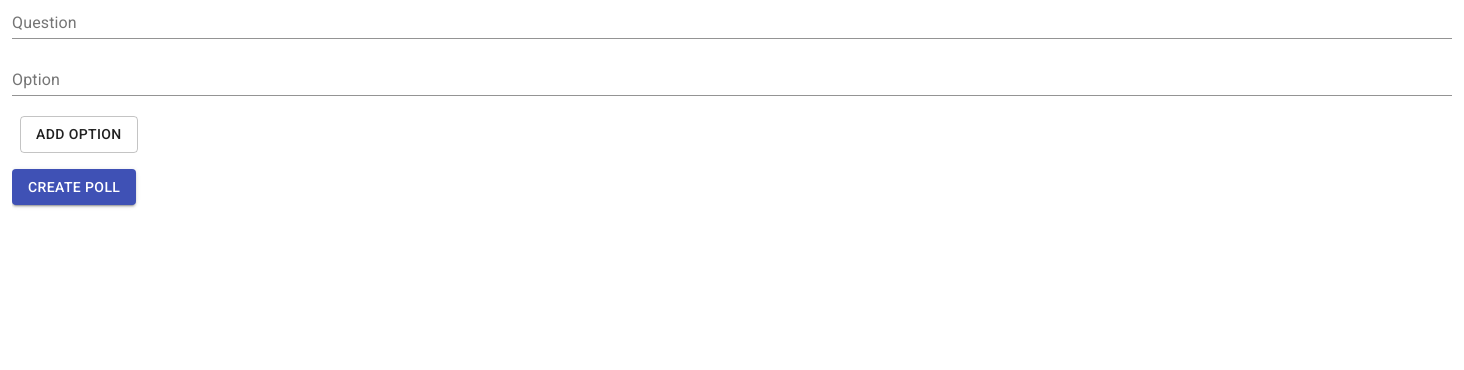
it: Component PollCreator › updating › update click › render error when validation fails
Type "option 1" into the field labelled "Option" at [732, 82], box 12,67 -> 1452,96
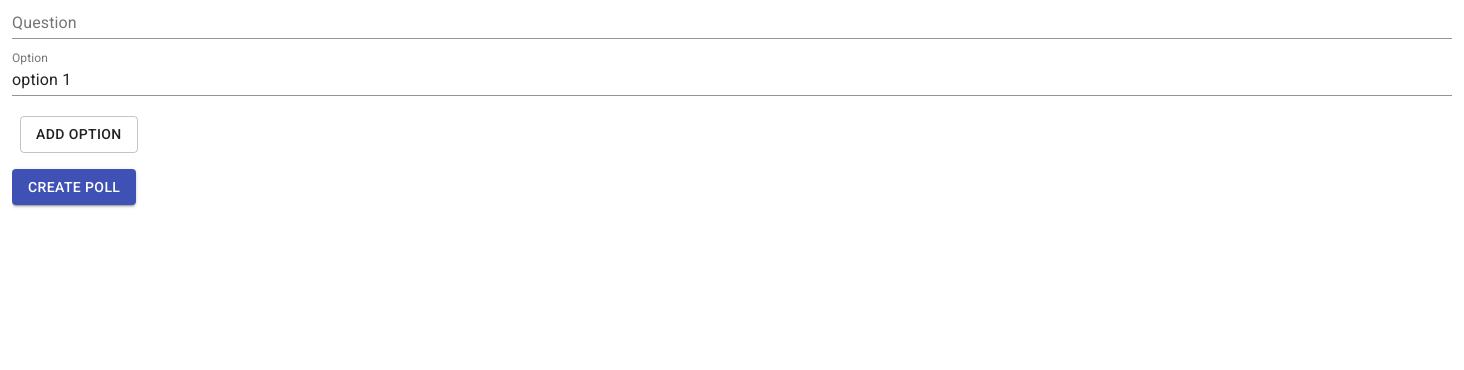
Click the button "Add option" at [79, 134], box 20,116 -> 138,152
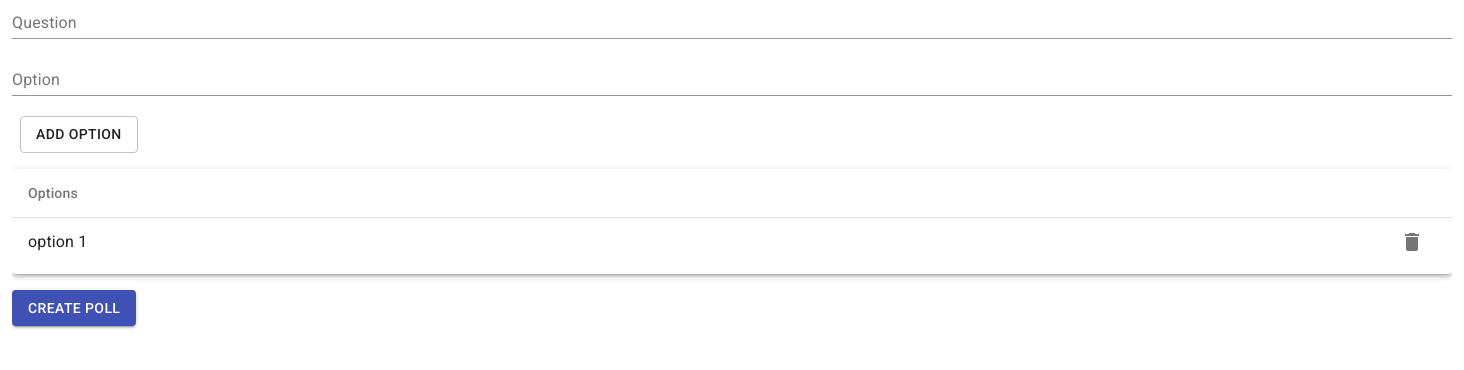
Click the button "option 1" at [58, 241], box 28,232 -> 87,250
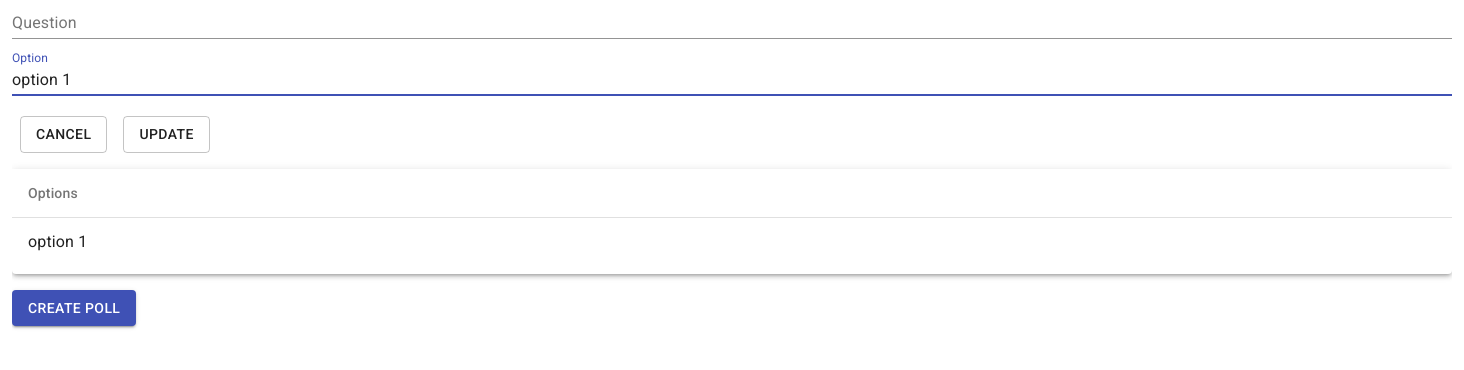
Click the button "Update" at [167, 134], box 123,116 -> 210,152
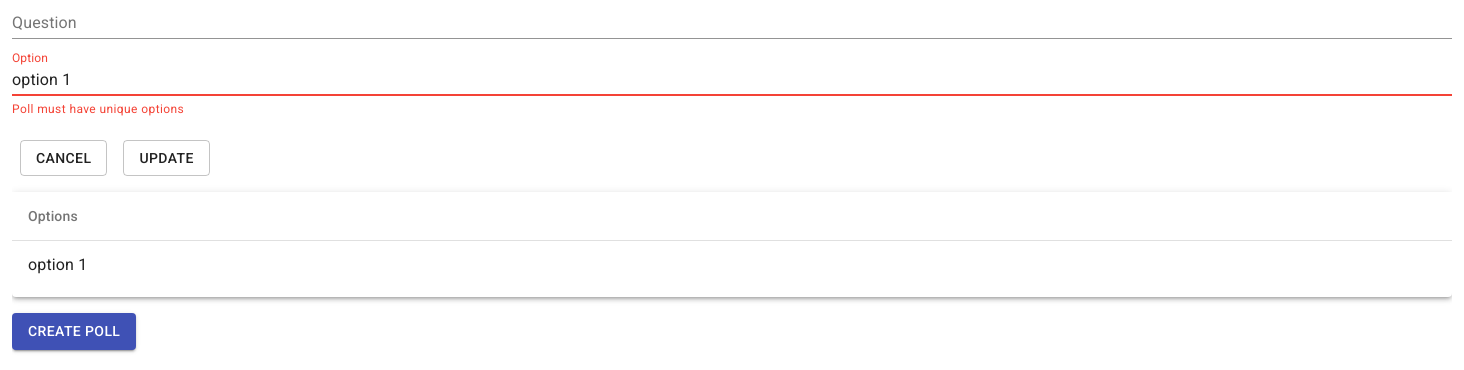
Expected: the text "Poll must have unique options" is shown, 12,102 -> 184,116
